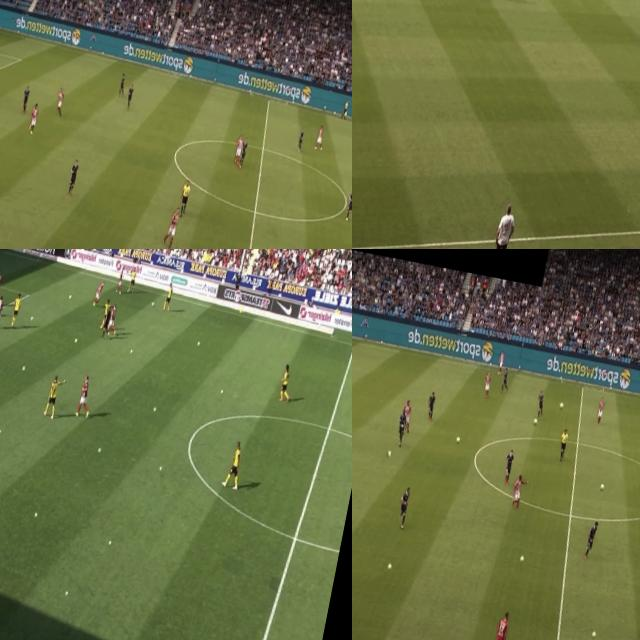ball: (107, 538, 114, 548), (454, 433, 460, 444), (590, 630, 596, 640), (386, 564, 393, 572), (599, 482, 606, 490), (560, 400, 566, 409), (387, 450, 392, 460), (152, 405, 158, 413), (196, 340, 201, 348), (128, 348, 133, 356), (520, 554, 525, 562), (22, 364, 26, 373), (150, 302, 154, 310), (534, 418, 538, 426), (158, 466, 163, 472), (73, 338, 78, 344), (29, 315, 34, 321), (64, 590, 68, 596), (34, 512, 38, 518), (68, 293, 71, 301), (220, 388, 223, 395), (98, 448, 101, 452), (0, 429, 1, 436)
player: (72, 372, 94, 426), (41, 376, 66, 421), (163, 205, 183, 249), (488, 610, 510, 640), (396, 487, 412, 528), (510, 473, 526, 512), (104, 304, 120, 341), (95, 300, 112, 334), (398, 401, 414, 434), (8, 293, 22, 330), (583, 522, 597, 559), (90, 280, 105, 310), (160, 282, 174, 314), (27, 103, 40, 136), (234, 132, 247, 163), (68, 157, 80, 190), (503, 448, 514, 482), (425, 392, 437, 422), (536, 389, 548, 418), (396, 413, 408, 442), (115, 264, 126, 295), (499, 366, 511, 394), (22, 83, 33, 112), (54, 88, 66, 114), (124, 82, 136, 108), (238, 138, 249, 166), (125, 268, 136, 295), (344, 189, 352, 226), (118, 67, 128, 96), (315, 126, 326, 152), (296, 126, 306, 154), (596, 397, 605, 423), (498, 352, 506, 374), (0, 295, 4, 329)
